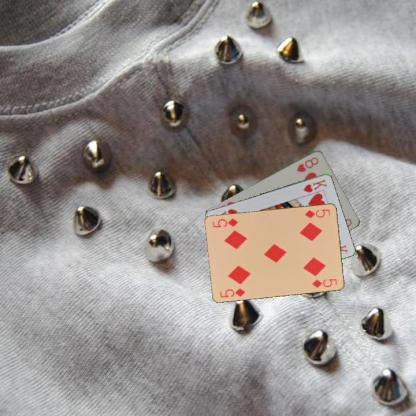5d: (302, 206, 332, 220), (218, 285, 247, 299)
8h: (294, 154, 320, 173)
Kh: (301, 176, 328, 194)
